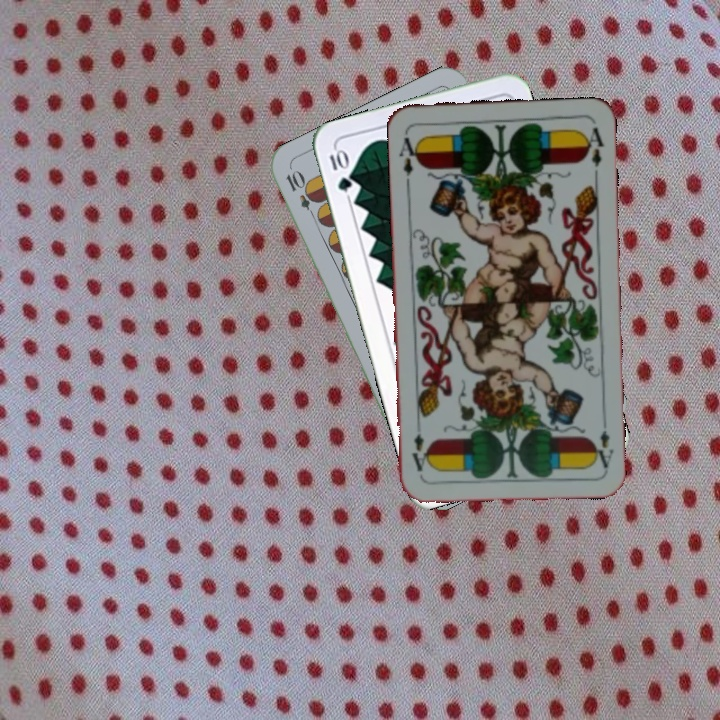E10: (282, 166, 321, 223)
EA: (590, 413, 616, 471), (395, 128, 423, 178)
G10: (325, 145, 355, 194)
